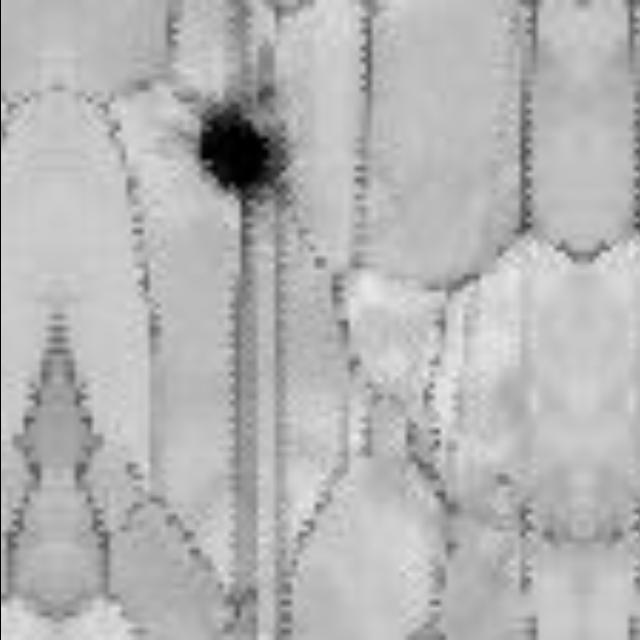good_void: (185, 77, 304, 220)
